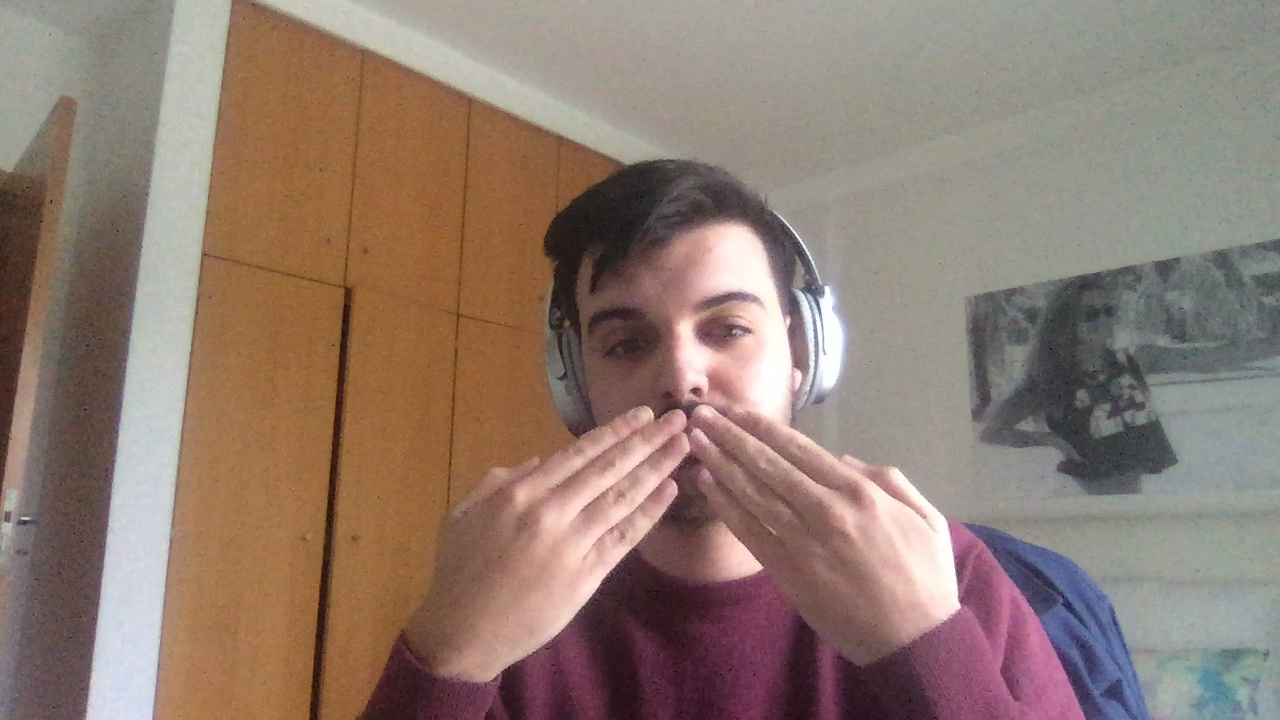ThankYou: (435, 404, 957, 626)
